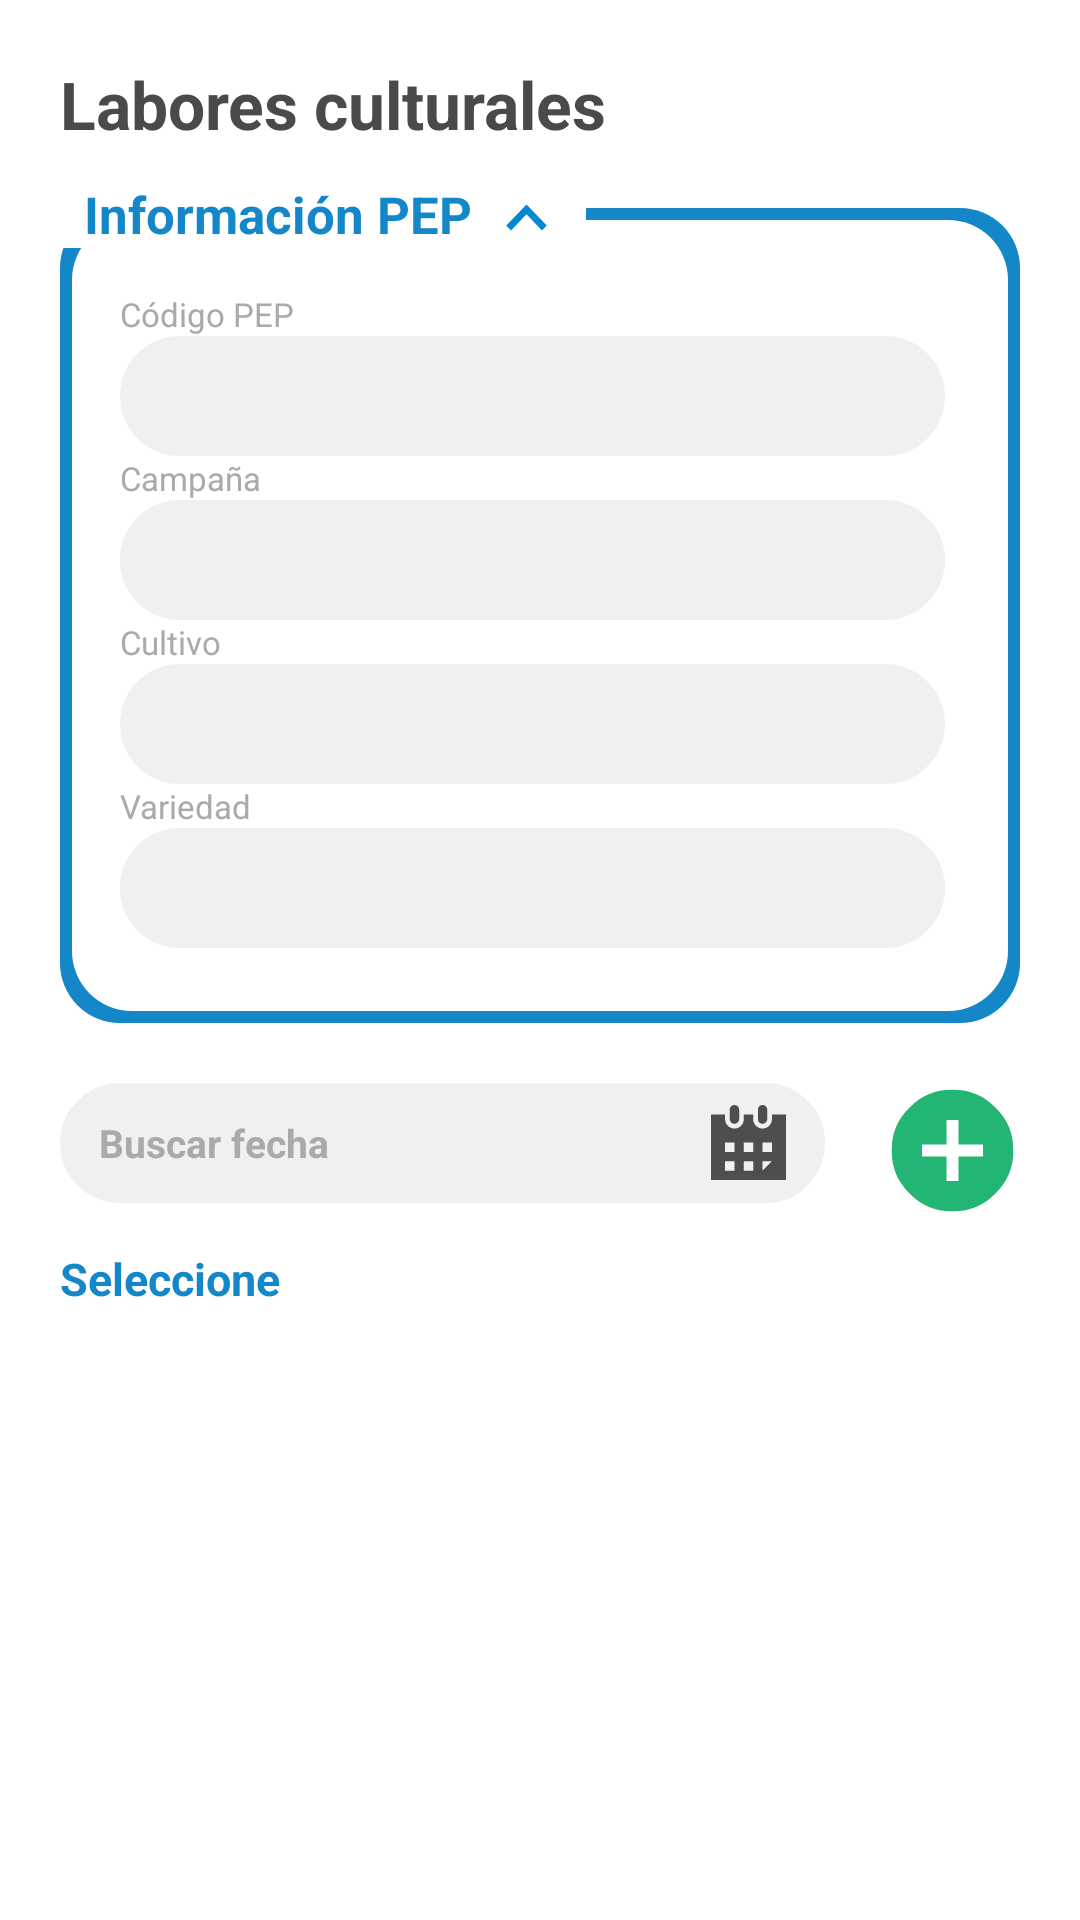

Icons on this 1080w x 1920h Android screen, each with its box as (x1, y1, x2, y2):
add: (891, 1089, 1014, 1212)
